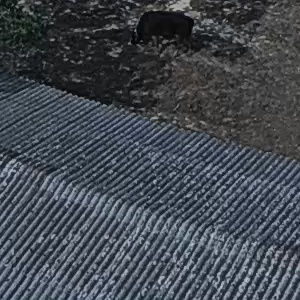cow: (113, 4, 213, 55)
